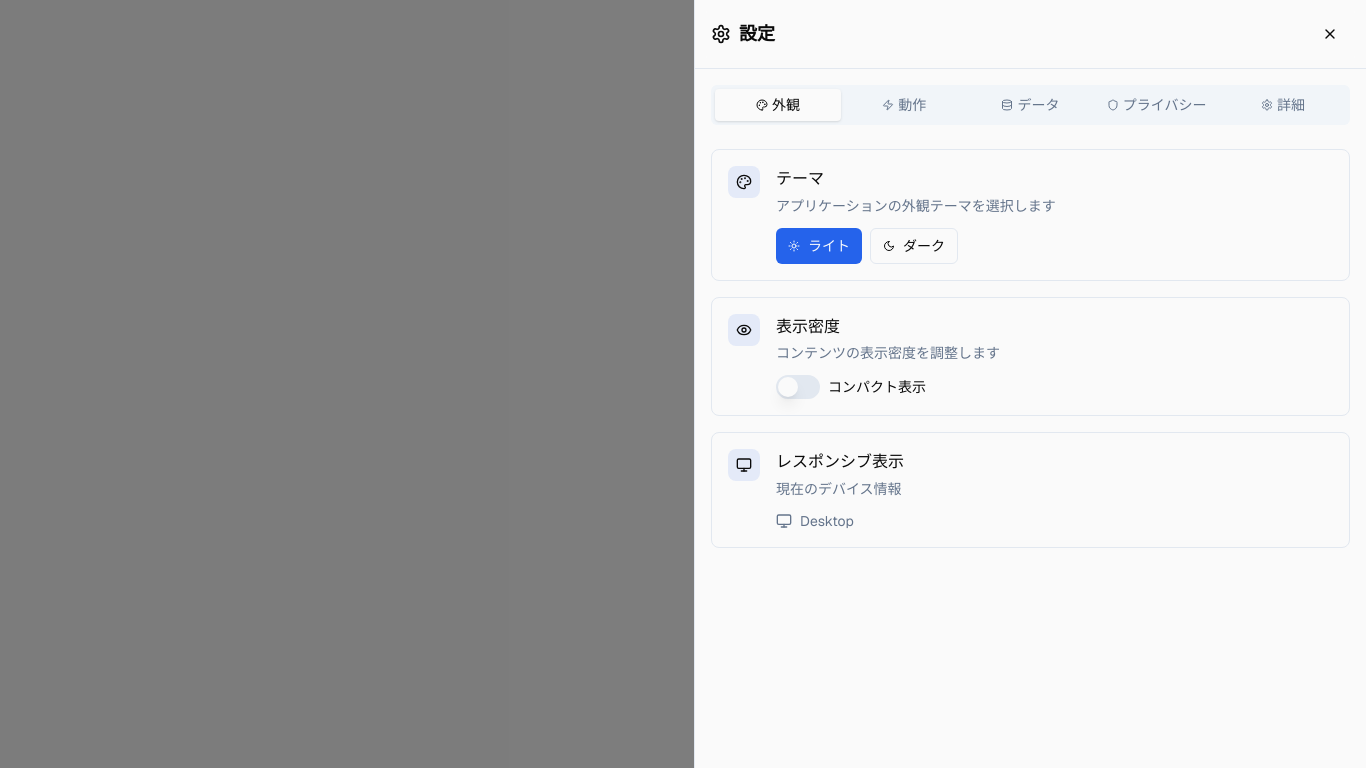
it: SettingsPanel › データ管理 › ストレージ使用量が表示される
This screenshot has width=1366, height=768.
Click the tab "データ" at (1030, 105), box [967,89,1094,121]
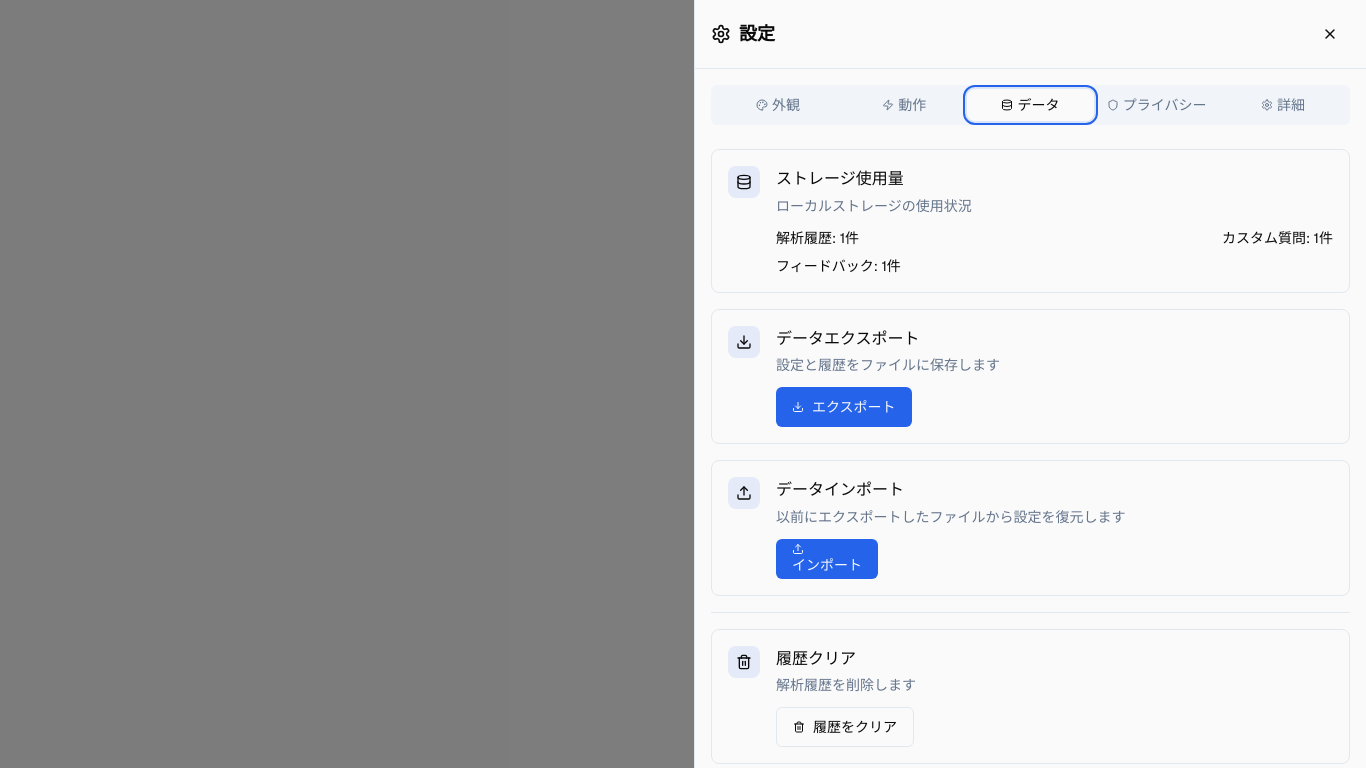
Expected: the text "解析履歴: 1件" is shown, [776,228,859,248]
Expected: the text "カスタム質問: 1件" is shown, [1222,228,1333,248]
Expected: the text "フィードバック: 1件" is shown, [776,256,901,276]
